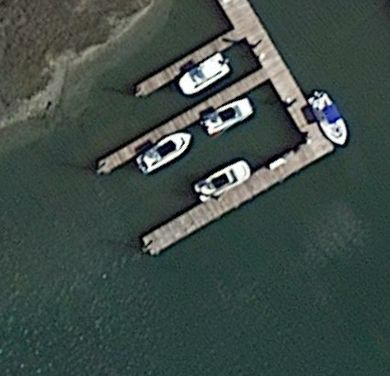boat: (305, 88, 350, 149), (198, 95, 259, 138), (178, 51, 232, 98), (137, 132, 192, 177), (193, 162, 253, 203)
